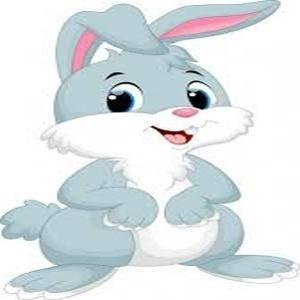rabbit: (0, 0, 279, 294)
